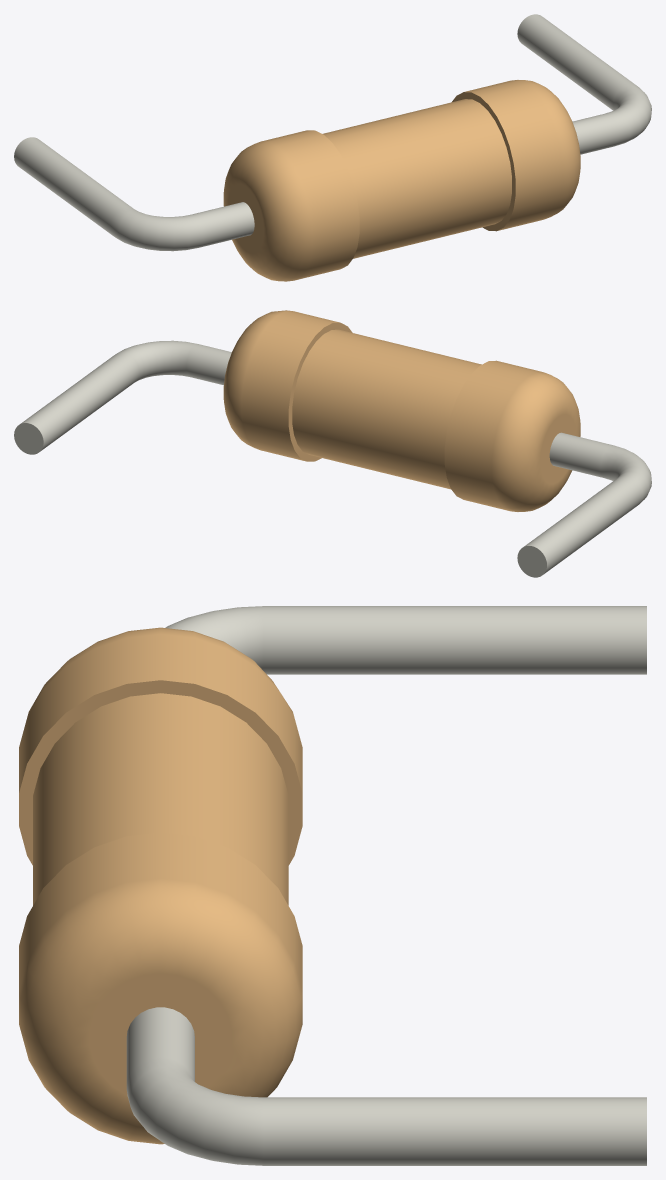
Rendered from R_Axial_DIN0207_horizontal.glb.
The picture shows the model from 3 angles, top to bottom: view 1: azimuth 30°, elevation 25°; view 2: azimuth 150°, elevation 25°; view 3: azimuth 270°, elevation 25°; orthographic projection. The views are drawn at different scales.
Parts seen in each view (by area): view 1: R_Axial_DIN0207_L63mm_D25mm_P1016mm_Horizontal; view 2: R_Axial_DIN0207_L63mm_D25mm_P1016mm_Horizontal; view 3: R_Axial_DIN0207_L63mm_D25mm_P1016mm_Horizontal.
Part boxes in pixels (x1,y1,x2,y2): R_Axial_DIN0207_L63mm_D25mm_P1016mm_Horizontal: (14, 14, 651, 281); R_Axial_DIN0207_L63mm_D25mm_P1016mm_Horizontal: (14, 310, 651, 577); R_Axial_DIN0207_L63mm_D25mm_P1016mm_Horizontal: (19, 606, 646, 1165).
Bounding box in the file's own units: 0.0108 × 0.0025 × 0.00549.
